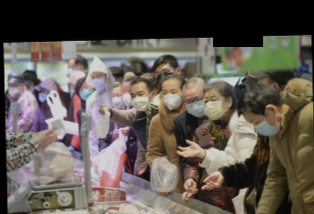with_mask: (248, 116, 283, 139), (203, 94, 226, 122), (183, 93, 206, 118), (161, 86, 184, 110), (130, 89, 150, 111), (90, 72, 108, 91), (76, 82, 94, 100), (121, 86, 133, 108), (110, 90, 122, 109), (6, 83, 19, 97), (36, 90, 47, 102)
